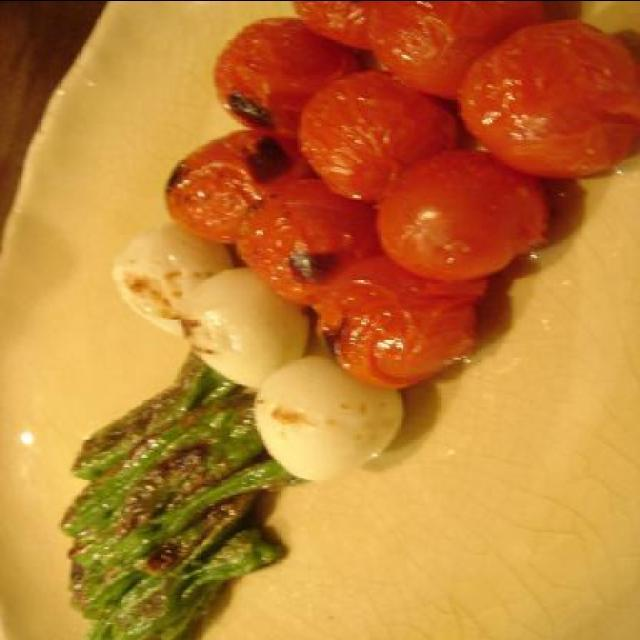Tomato: (161, 1, 640, 386), (377, 143, 565, 275)
